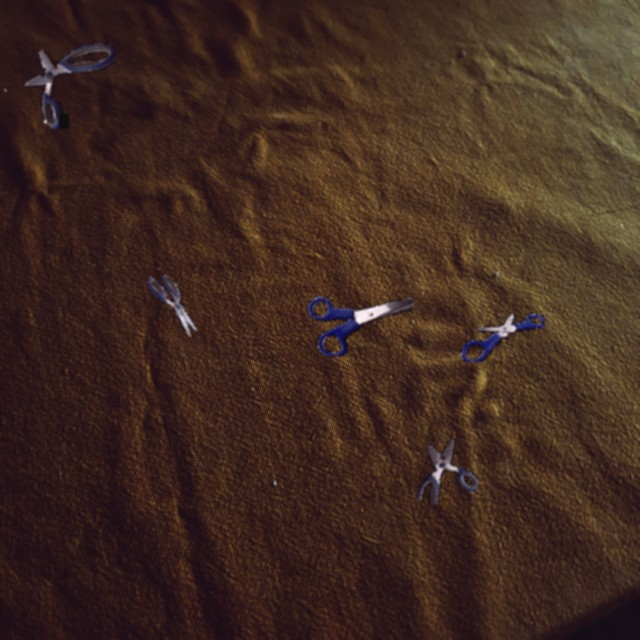scissors: (4, 42, 116, 129), (307, 296, 414, 356), (460, 313, 545, 362), (416, 438, 478, 504), (147, 268, 197, 336)
